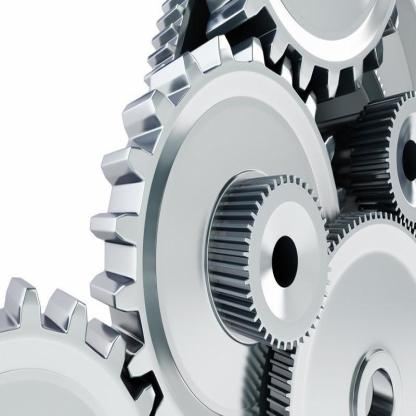FOD: (86, 31, 346, 415), (204, 0, 406, 100)
